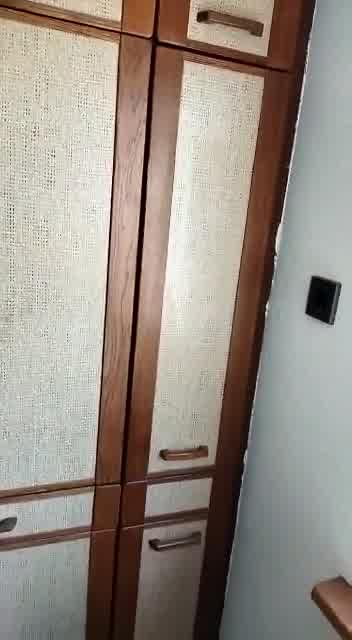cabinet_door: (1, 4, 130, 489), (133, 37, 253, 474), (121, 516, 240, 640), (1, 541, 118, 640), (158, 0, 307, 64), (1, 491, 121, 550)
handle: (195, 1, 267, 41), (157, 438, 212, 469), (148, 525, 201, 555)
